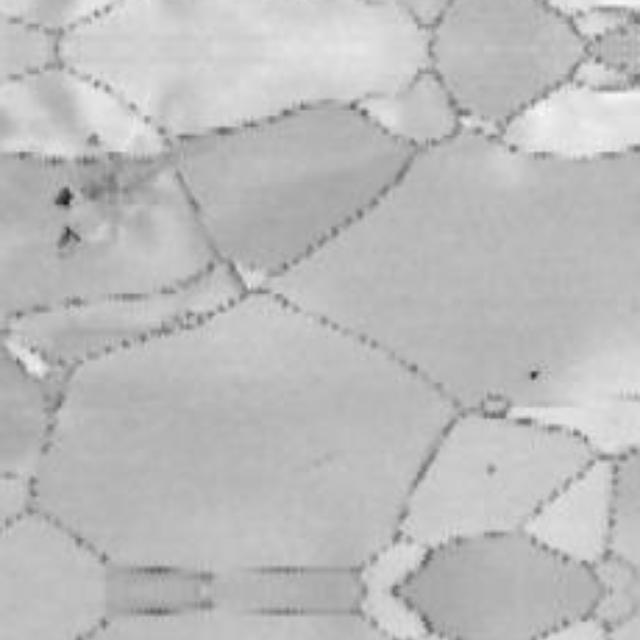good_void: (55, 223, 81, 250), (52, 181, 77, 208), (480, 457, 505, 482), (80, 126, 105, 149), (524, 366, 542, 385)
